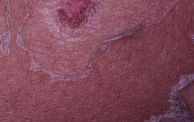SJS-TEN: (22, 1, 160, 83)
